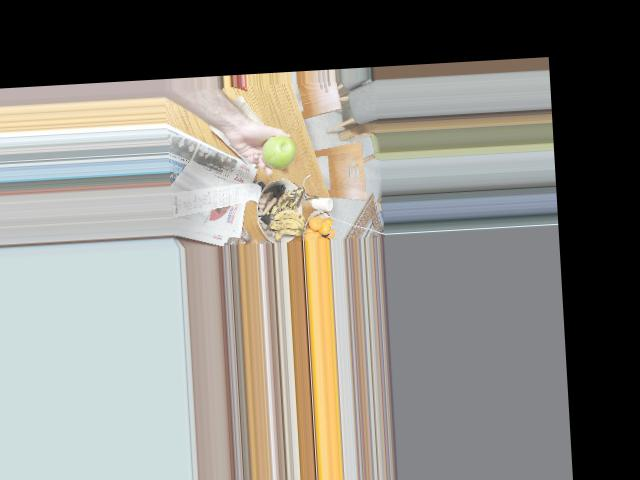apple: (258, 134, 296, 169)
